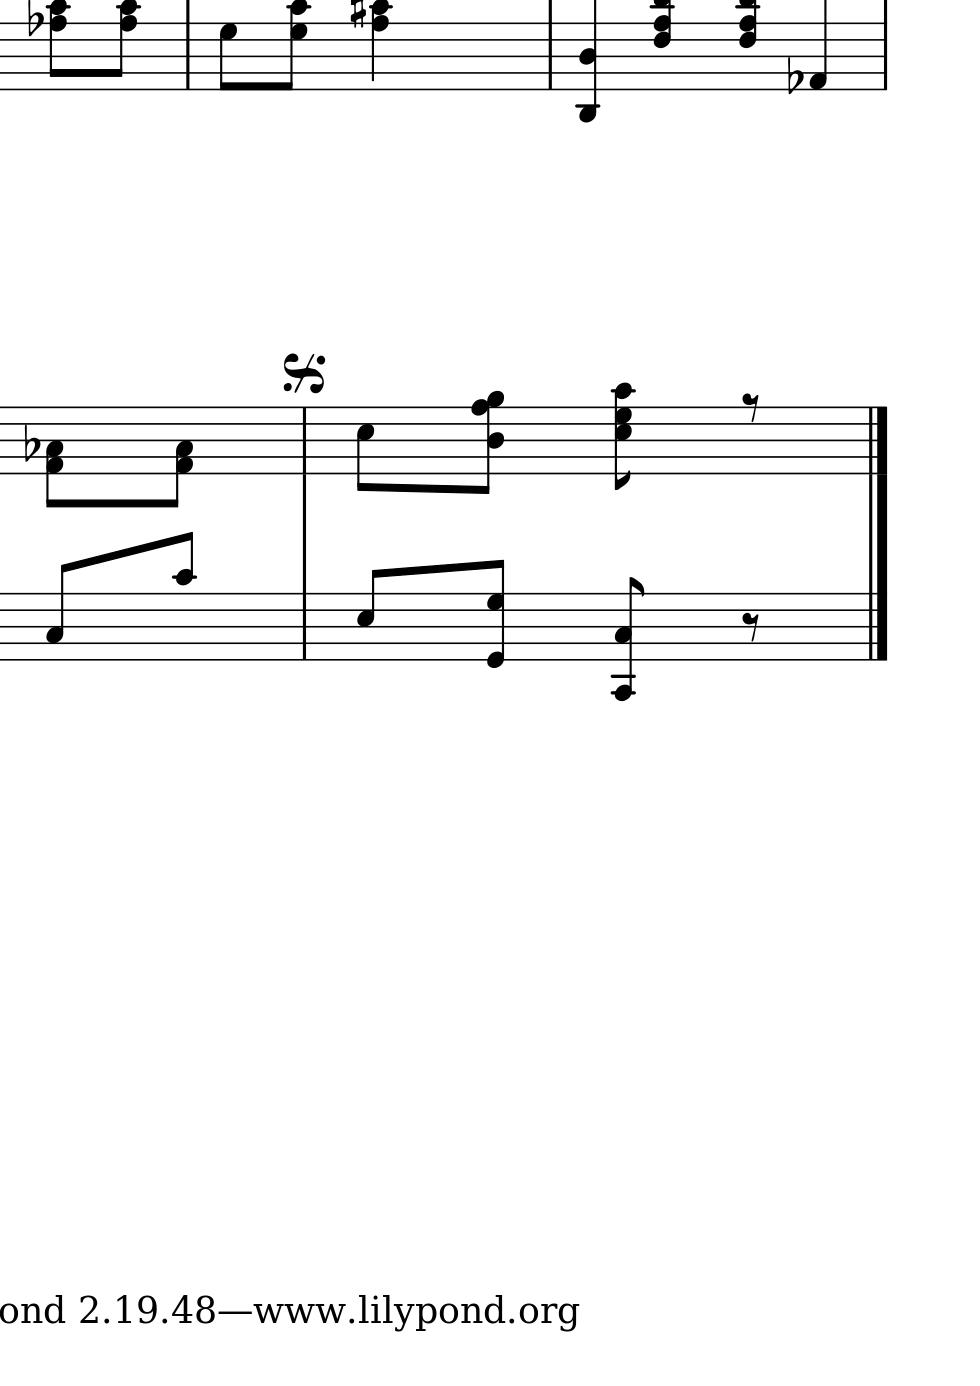4_1: (808, 1, 829, 94)
8_-4_3: (609, 577, 645, 702)
8_0_7: (486, 559, 507, 669)
8_10: (169, 528, 199, 663)
8_1_3: (165, 405, 194, 510), (43, 404, 65, 509)
8_3: (43, 560, 74, 664)
8_5: (354, 567, 385, 662), (355, 405, 375, 494)
8_7: (218, 21, 238, 93)
8_7_10: (279, 1, 313, 93)
8_8_10: (108, 1, 142, 93), (43, 1, 73, 93)
8_th: (609, 379, 638, 493)
Final_barline: (863, 406, 891, 474), (862, 594, 890, 660)
Flat: (21, 421, 40, 464), (784, 54, 803, 97), (24, 1, 43, 39)
Rests8: (739, 610, 763, 643), (740, 390, 762, 423)
Segno: (275, 348, 330, 398)
Single_barline: (873, 23, 893, 90), (294, 594, 314, 660), (178, 23, 197, 89), (541, 23, 559, 91), (295, 408, 313, 473)
